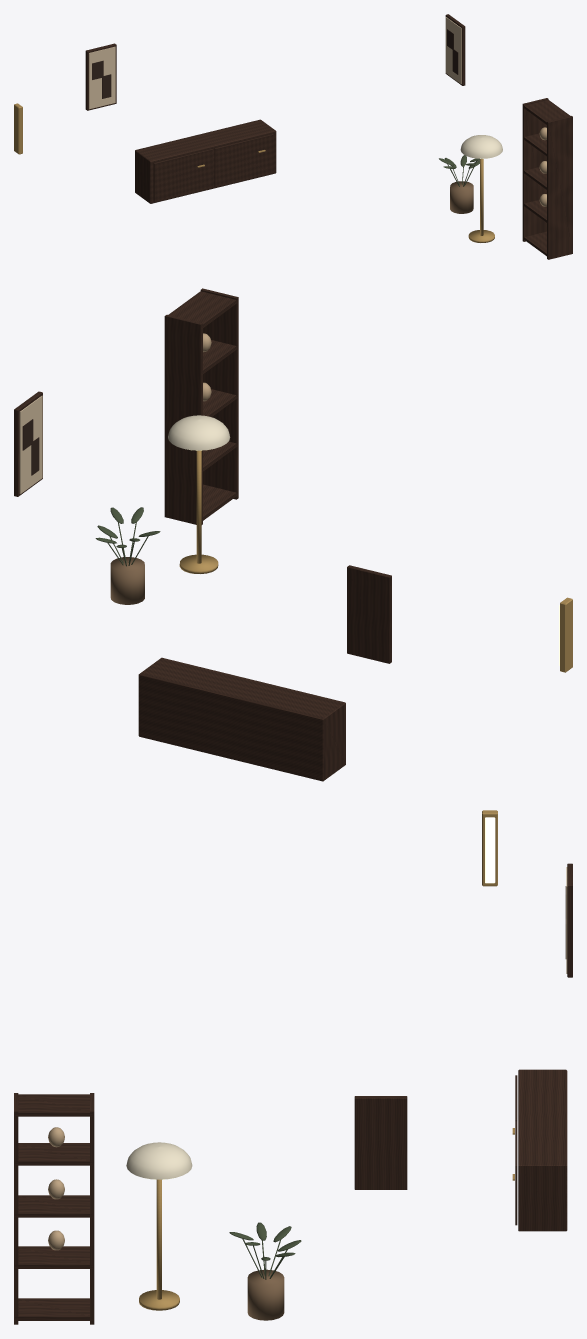
File: decor.glb
The picture shows the model from 3 angles, top to bottom: view 1: azimuth 30°, elevation 25°; view 2: azimuth 150°, elevation 25°; view 3: azimuth 270°, elevation 25°; orthographic projection. The views are drawn at different scales.
Visible parts, largest first — view 1: Narrow shelf upright, Low cabinet, Cabinet door, Cabinet door.001, Narrow shelf upright.001, Abstract painting background, Mushroom hemisphere shade, Abstract painting background.001, Plant pot, Narrow right shelf.004, Narrow artwork frame, Left wall brass sconce (+2 smaller); view 2: Low cabinet, Narrow shelf upright.001, Narrow artwork frame, Narrow shelf upright, Mushroom hemisphere shade, Plant pot, Abstract painting background.001, Narrow right shelf.004, Left wall brass sconce, Narrow artwork frame.001, Narrow right shelf, Mushroom brass column (+1 smaller); view 3: Low cabinet, Narrow artwork frame.001, Mushroom hemisphere shade, Plant pot, Narrow right shelf, Narrow right shelf.004, Narrow right shelf.003, Narrow right shelf.002, Narrow right shelf.001, Narrow shelf upright.001, Narrow shelf upright, Left wall sconce diffuser (+3 smaller).
Part boxes in pixels (x1,y1,x2,y2): Narrow shelf upright: [547, 116, 572, 259]; Low cabinet: [135, 119, 276, 203]; Cabinet door: [153, 149, 212, 201]; Cabinet door.001: [214, 134, 273, 186]; Narrow shelf upright.001: [522, 98, 548, 241]; Abstract painting background: [89, 46, 115, 109]; Mushroom hemisphere shade: [460, 135, 502, 158]; Abstract painting background.001: [445, 17, 461, 83]; Plant pot: [450, 181, 473, 213]; Narrow right shelf.004: [524, 100, 570, 125]; Narrow artwork frame: [85, 43, 116, 110]; Left wall brass sconce: [14, 103, 22, 154]; Low cabinet: [138, 657, 345, 781]; Narrow shelf upright.001: [164, 314, 202, 524]; Narrow artwork frame: [347, 565, 391, 663]; Narrow shelf upright: [200, 288, 238, 499]; Mushroom hemisphere shade: [168, 415, 230, 450]; Plant pot: [110, 557, 144, 604]; Abstract painting background.001: [19, 395, 42, 494]; Narrow right shelf.004: [168, 291, 238, 328]; Left wall brass sconce: [560, 597, 572, 672]; Narrow artwork frame.001: [14, 391, 42, 496]; Narrow right shelf: [201, 484, 238, 521]; Mushroom brass column: [196, 450, 201, 563]; Low cabinet: [518, 1069, 567, 1231]; Narrow artwork frame.001: [354, 1096, 407, 1189]; Mushroom hemisphere shade: [126, 1142, 192, 1179]; Plant pot: [247, 1269, 284, 1320]; Narrow right shelf: [15, 1298, 93, 1320]; Narrow right shelf.004: [15, 1094, 93, 1116]; Narrow right shelf.003: [15, 1143, 93, 1165]; Narrow right shelf.002: [15, 1195, 93, 1217]; Narrow right shelf.001: [15, 1246, 93, 1268]; Narrow shelf upright.001: [90, 1093, 94, 1324]; Narrow shelf upright: [14, 1093, 18, 1324]; Left wall sconce diffuser: [485, 817, 495, 883].
Size of the model in its own units: 5.95 by 2.15 by 4.56.
13 materials, 2 textured.
